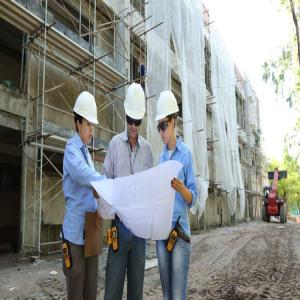white: (73, 92, 99, 147), (157, 89, 180, 146), (124, 83, 146, 140)
